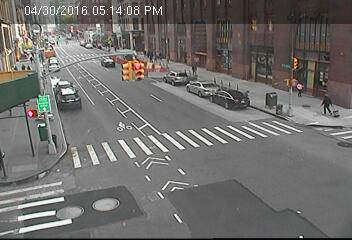neg: (23, 103, 37, 121), (105, 115, 118, 132), (64, 82, 76, 98), (258, 83, 270, 99), (286, 50, 298, 66), (159, 75, 170, 90), (207, 72, 217, 85), (97, 58, 107, 71), (71, 53, 78, 62), (47, 50, 54, 58), (77, 40, 83, 48), (119, 52, 124, 59), (102, 43, 106, 49)
pos: (316, 91, 337, 119), (294, 80, 306, 97), (190, 62, 199, 75), (164, 55, 171, 65), (19, 62, 26, 71), (27, 54, 34, 63), (26, 64, 32, 72)
